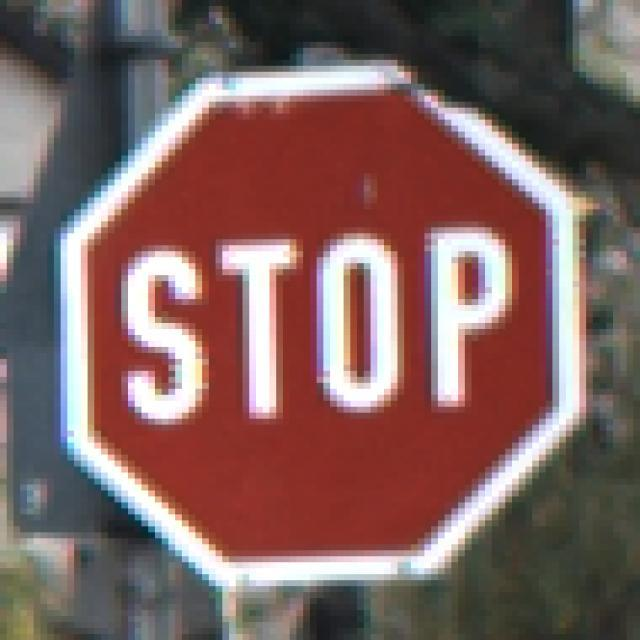stop: (49, 58, 590, 588)
